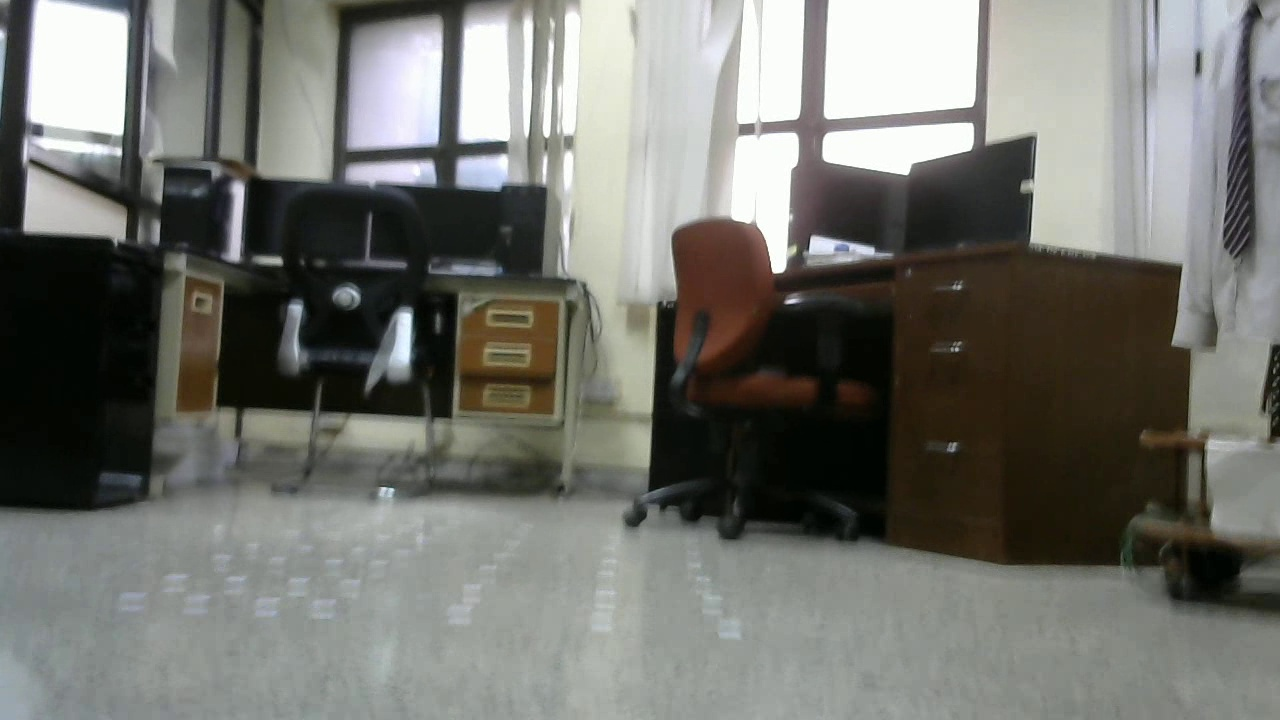chair: (618, 218, 872, 541), (273, 185, 448, 510)
